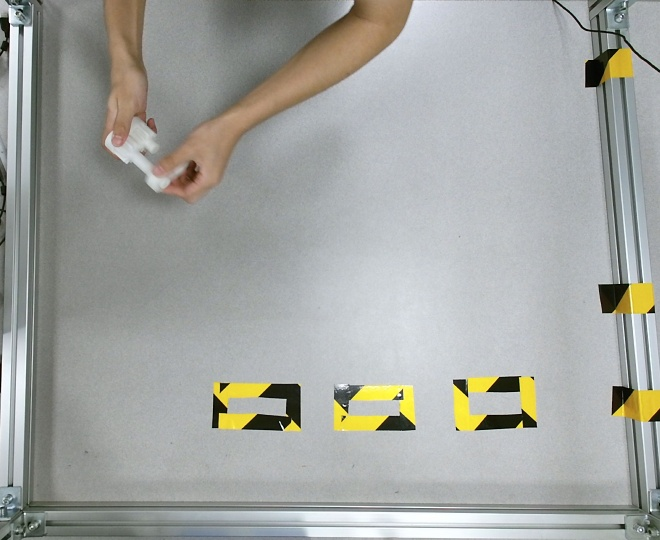stage_3: (105, 115, 154, 173)
